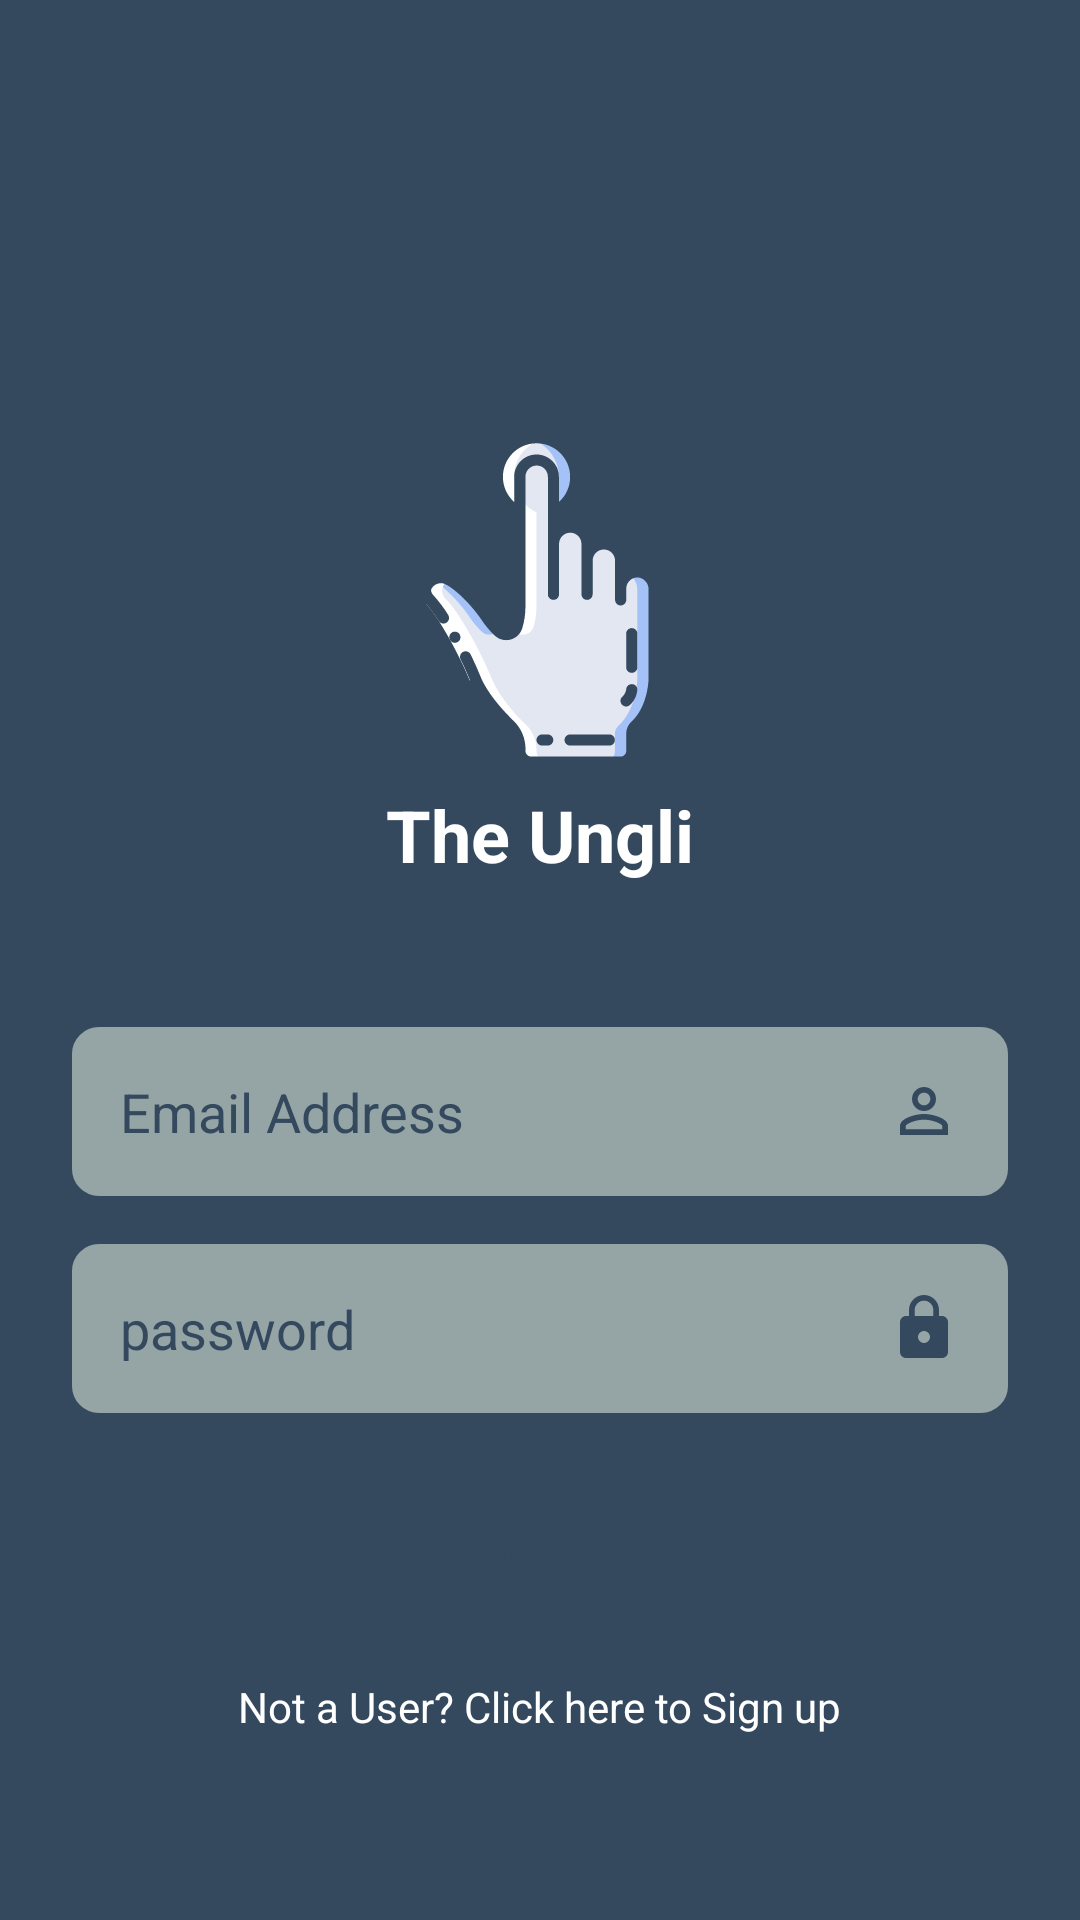

Where icons sit on this 1080w x 1920h app screen, as (x1, y1, x2, y2):
tap: (426, 443, 649, 757)
